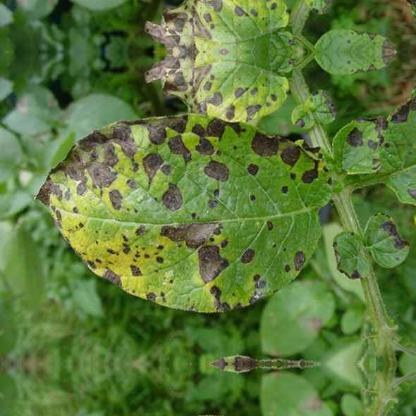Early-Blight: (32, 112, 340, 320), (142, 50, 298, 119), (142, 0, 297, 51), (332, 216, 416, 286), (330, 115, 408, 184)
